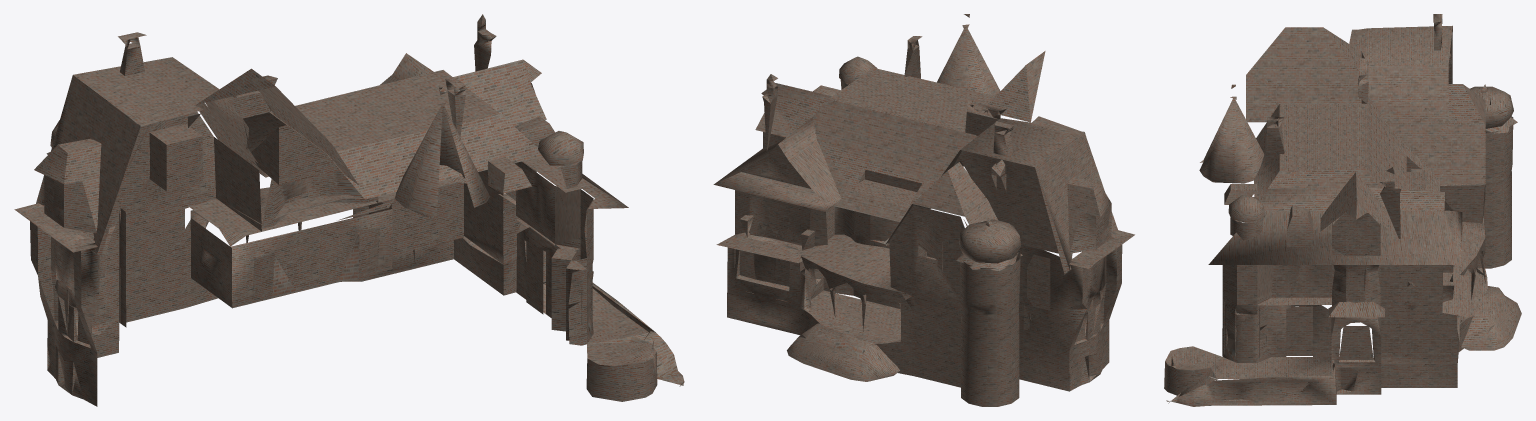
Rendered from Mansion_LowPoly01.FBX.
3 views of the same model, side by side, from view 1: azimuth 30°, elevation 25°; view 2: azimuth 150°, elevation 25°; view 3: azimuth 270°, elevation 25° (orthographic). The views are drawn at different scales.
Parts seen in each view (by area): view 1: Mansion_LowPoly; view 2: Mansion_LowPoly; view 3: Mansion_LowPoly.
Part boxes in pixels (left/top/right/bottom): Mansion_LowPoly: left=14, top=14, right=684, bottom=406; Mansion_LowPoly: left=713, top=14, right=1134, bottom=406; Mansion_LowPoly: left=1164, top=14, right=1521, bottom=406.
Size of the model in its own units: 384 by 239 by 309.
